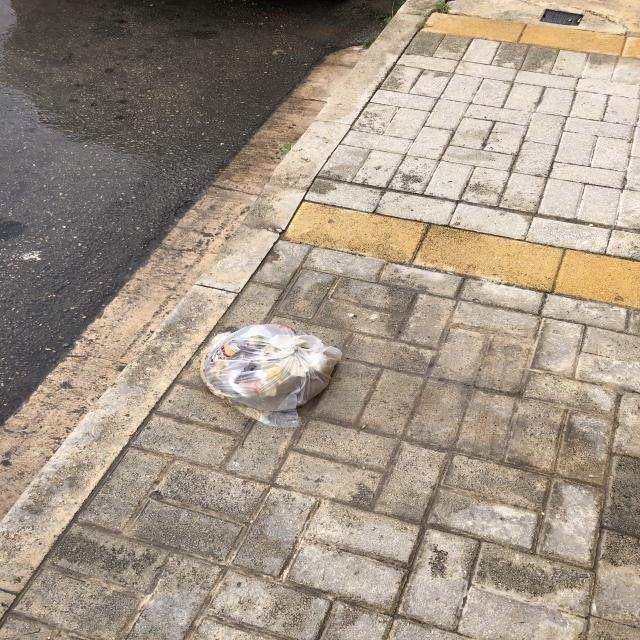Organic Waste -White Bag-: (188, 322, 349, 435)
